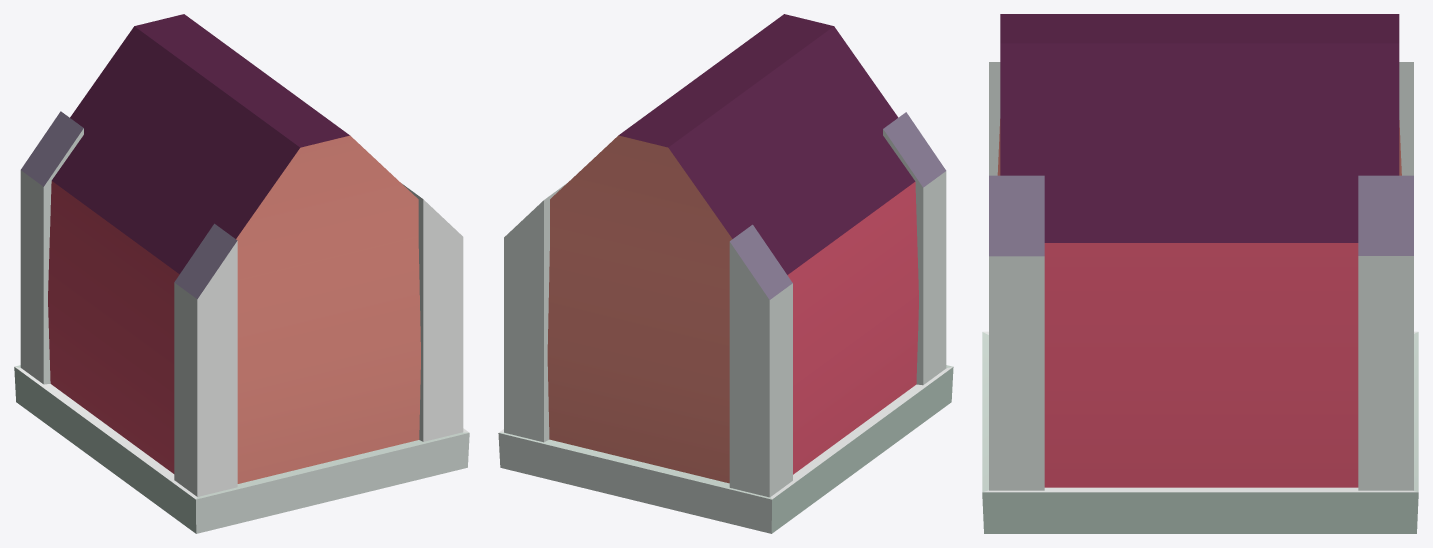
The model's file is House02_Pink_White.glb.
3 renders of one model, left to right at view 1: azimuth 30°, elevation 25°; view 2: azimuth 150°, elevation 25°; view 3: azimuth 270°, elevation 25°, orthographic. The views are drawn at different scales.
Parts seen in each view (by area): view 1: House02_Pink_White; view 2: House02_Pink_White; view 3: House02_Pink_White.
Part boxes in pixels (box(x1,y1,x2,y2)): House02_Pink_White: box(14, 14, 469, 533); House02_Pink_White: box(498, 14, 953, 533); House02_Pink_White: box(982, 14, 1418, 533).
Size of the model in its own units: 2.04 by 2.52 by 2.34.
1 material, 1 textured.
